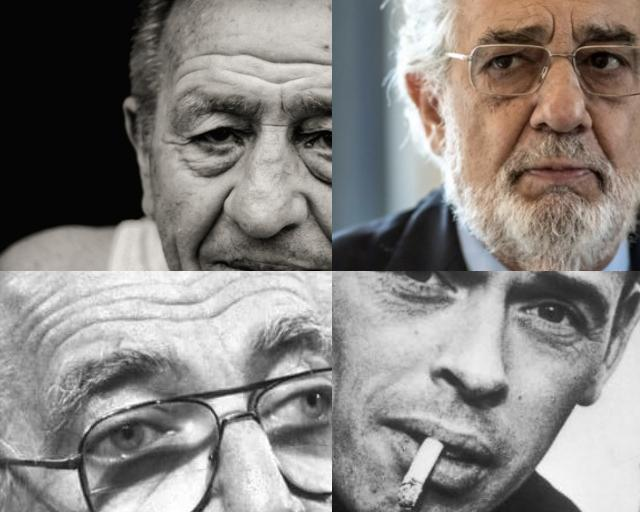crows_feet: (162, 132, 192, 160)
forehead: (82, 287, 148, 331), (155, 280, 219, 324), (24, 298, 74, 350), (232, 274, 300, 302), (248, 46, 310, 70), (188, 45, 236, 63), (256, 72, 302, 90), (170, 66, 208, 82), (317, 53, 332, 74), (515, 0, 536, 11), (323, 75, 332, 94)
frown_line: (544, 10, 560, 44), (260, 115, 290, 131), (566, 10, 580, 40)
gummy_smile: (190, 194, 232, 250), (302, 197, 332, 262), (587, 116, 609, 156), (509, 112, 531, 152)
masseter: (170, 236, 184, 271)
